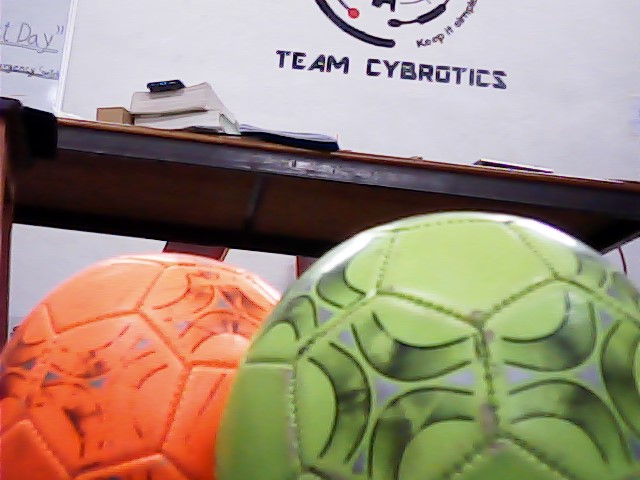Green_ball: (223, 188, 627, 480)
Orange_ball: (1, 250, 274, 480)
